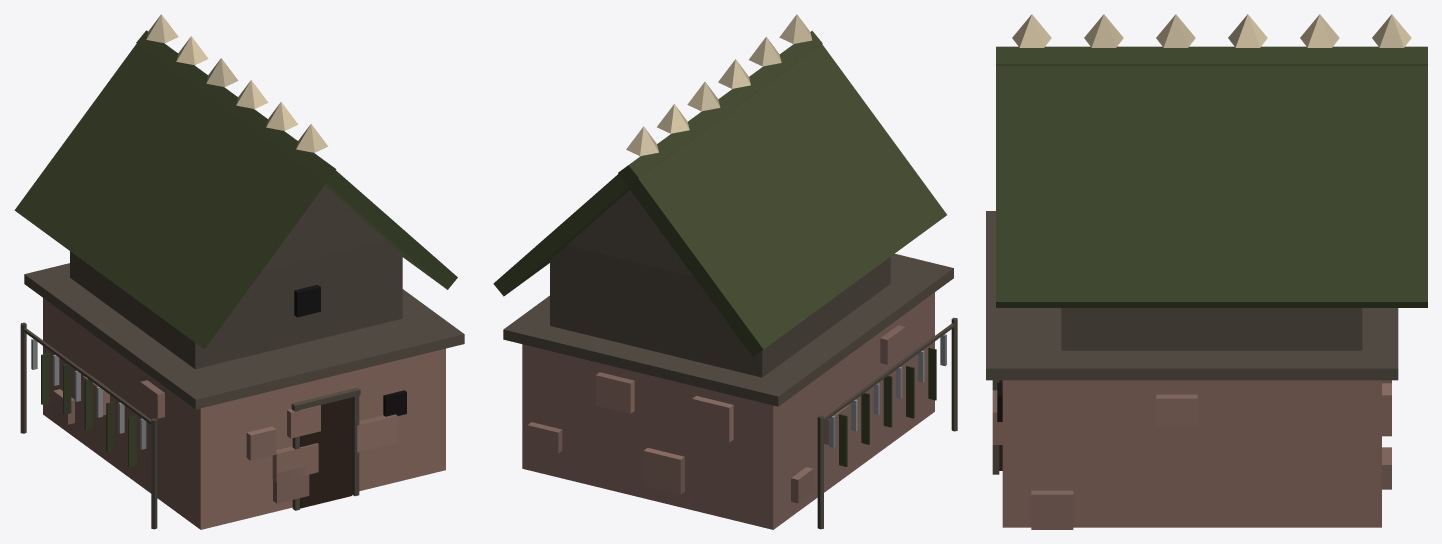
File: reef_house.glb
3 renders of one model, left to right at view 1: azimuth 30°, elevation 25°; view 2: azimuth 150°, elevation 25°; view 3: azimuth 270°, elevation 25°, orthographic. The views are drawn at different scales.
Visible parts, largest first — view 1: reef_house; view 2: reef_house; view 3: reef_house.
Part boxes in pixels (box(x1,y1,x2,y2)): reef_house: box(14, 14, 464, 529); reef_house: box(493, 14, 957, 529); reef_house: box(986, 14, 1427, 529).
Size of the model in its own units: 6.23 by 7.45 by 6.75.
2 materials, 2 textured.
